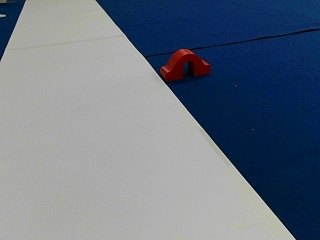bridge: (161, 49, 209, 78)
